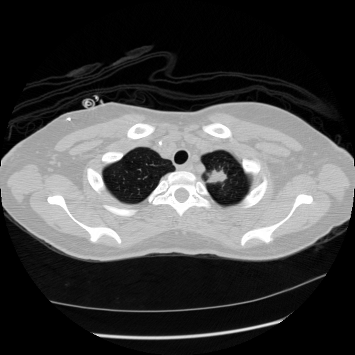nodule: (209, 167, 227, 185)
